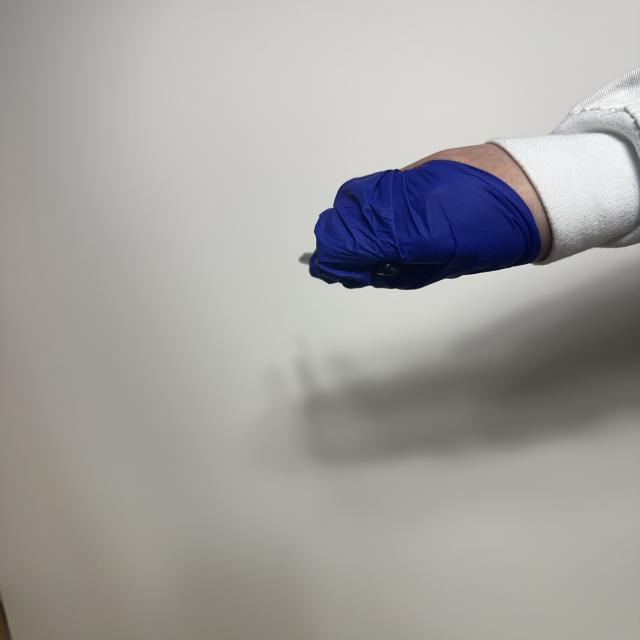glove_partial: (301, 138, 562, 296)
